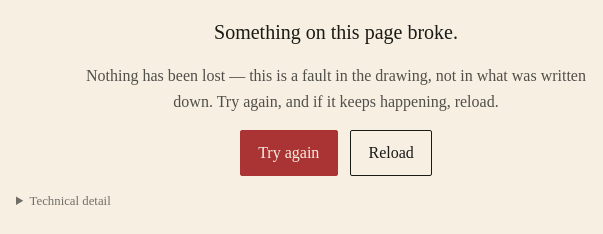
Scenario: when a screen throws › keeps the detail available without putting it in anybody’s way
The width and height of the screenshot is (603, 234).
Expected: the text "the drawing failed" is not shown
Click the heading "Technical detail" at [70, 201], box [30,194,111,208]
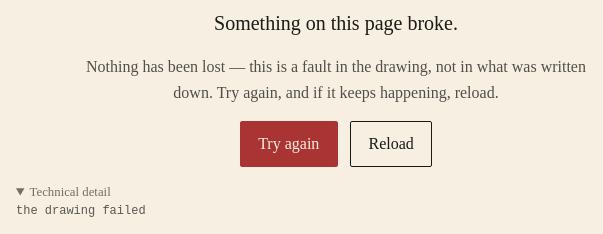
Expected: the text "the drawing failed" is shown, [16,204,146,218]
